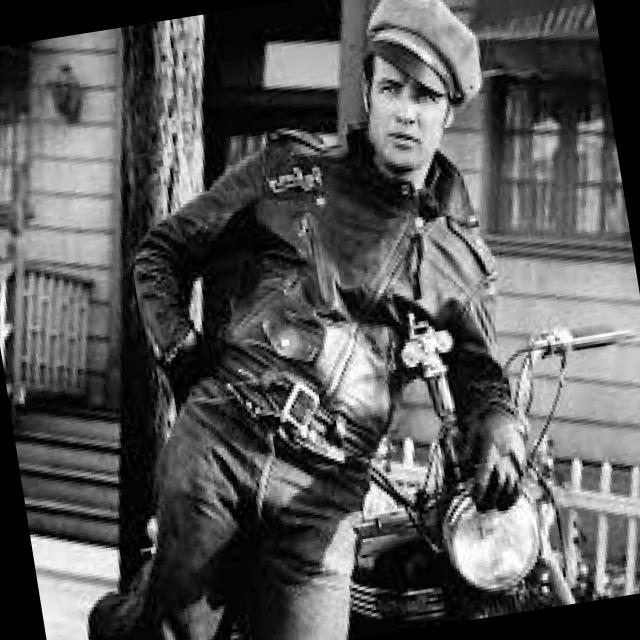Jacket: (82, 105, 557, 622)
